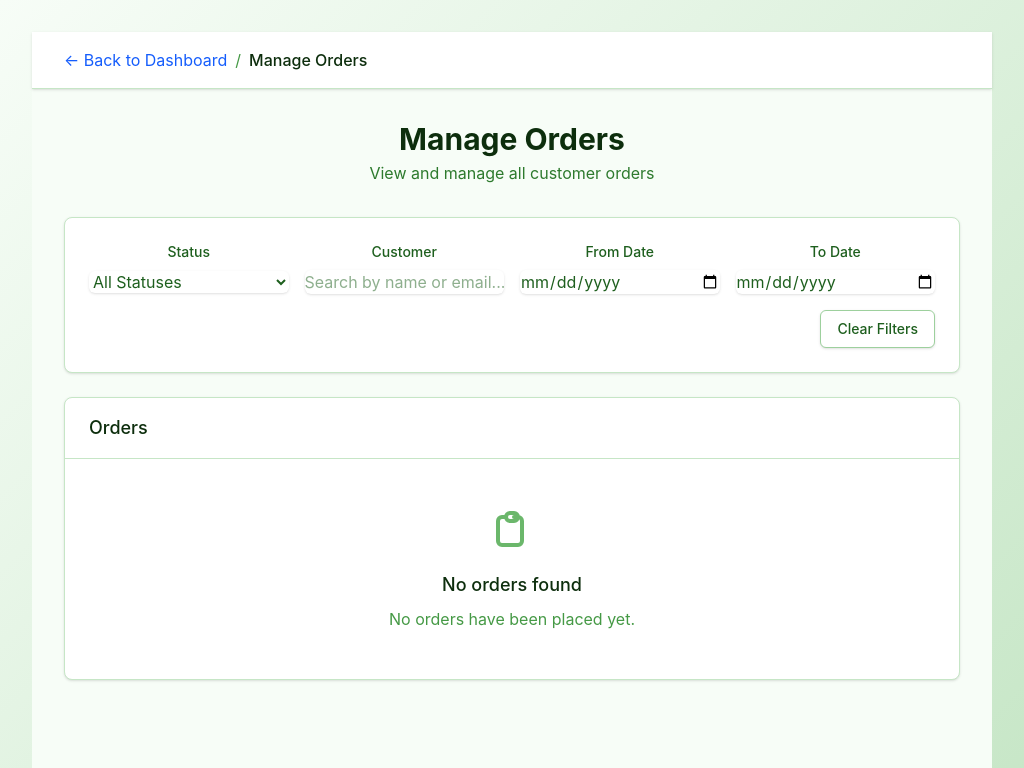
AdminOrdersListPage › Empty State › should show different message when filters are applied but no results
The width and height of the screenshot is (1024, 768).
Select "Pending" in the dropdown showing "All Statuses" at (189, 282), box [89,271,288,293]
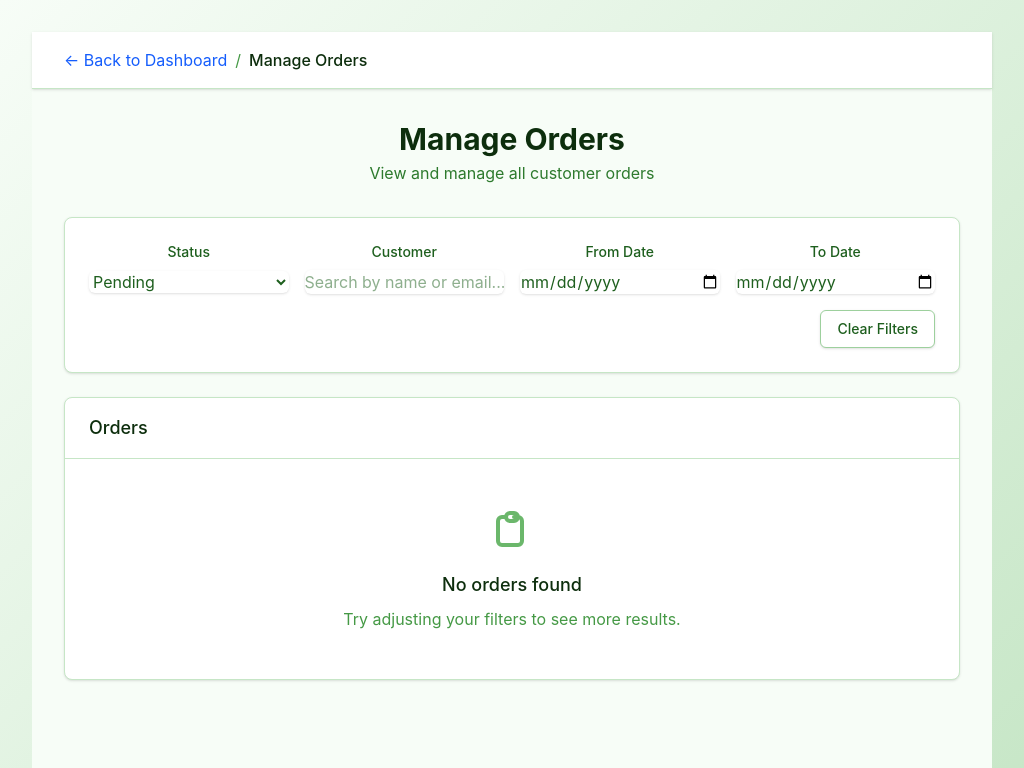
Check: the heading "No orders found" is shown, box [442,574,582,595]
Check: the text "Try adjusting your filters to see more results." is shown, box [343,609,681,629]
